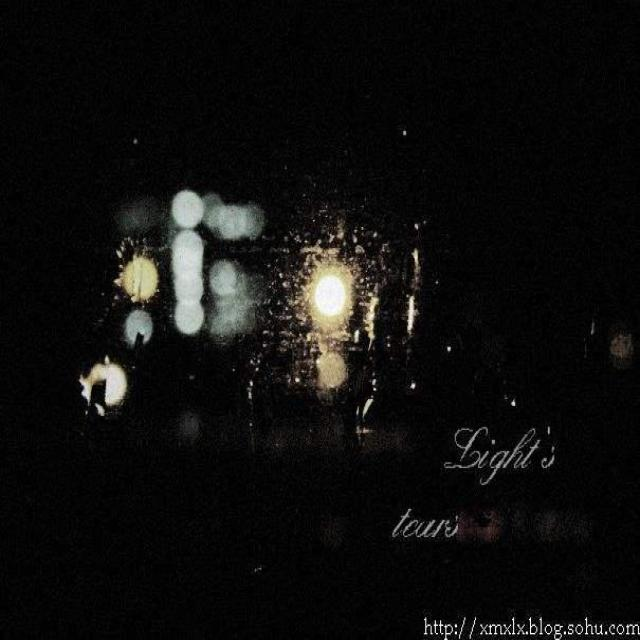other: (170, 195, 206, 332), (313, 272, 346, 325), (118, 258, 153, 300), (93, 362, 125, 404)
